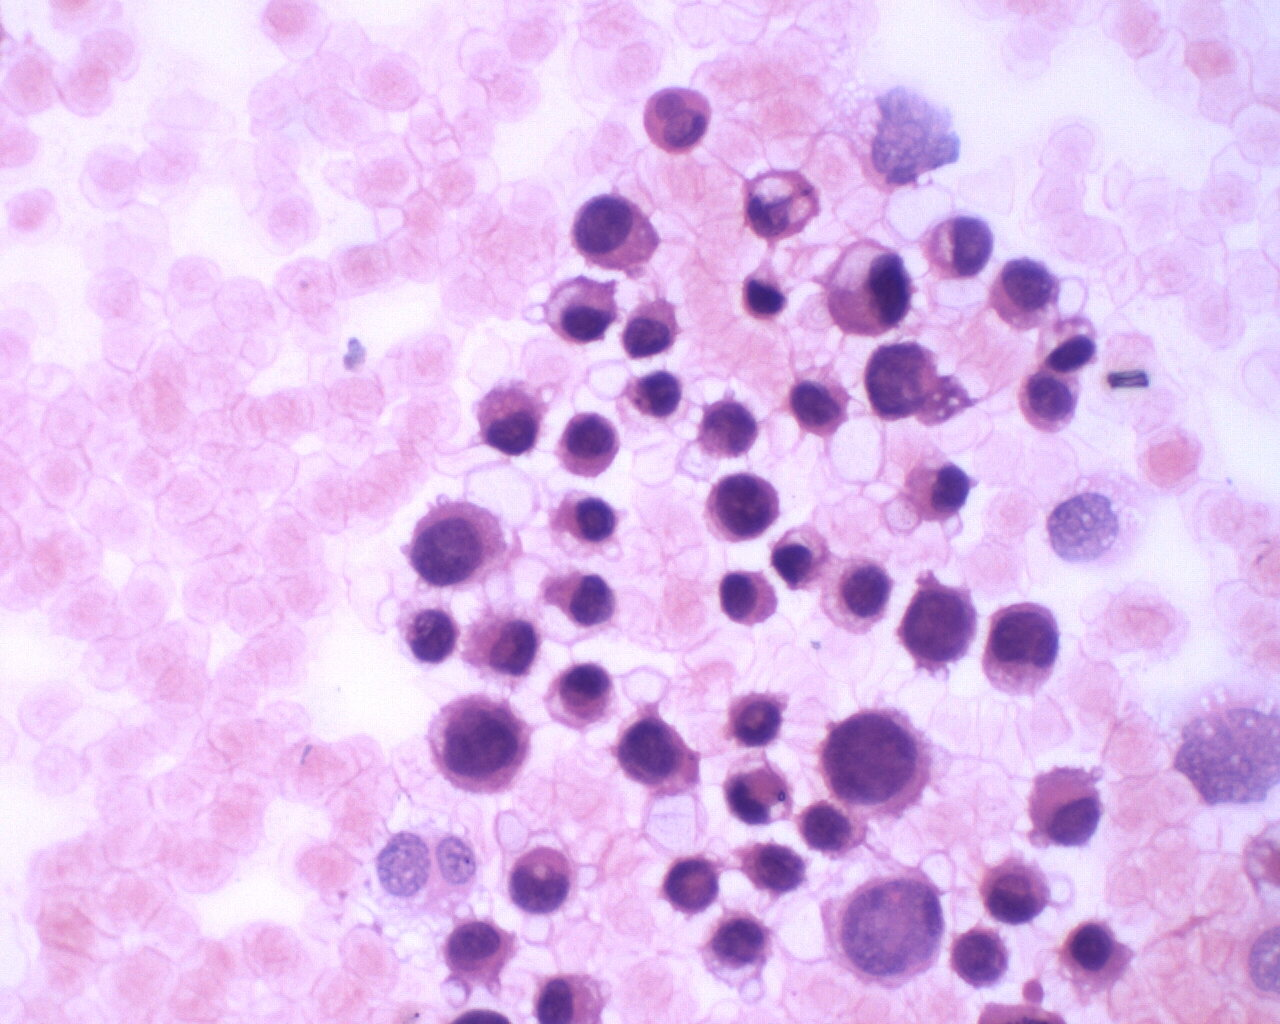ab: (820, 703, 936, 821), (428, 691, 536, 799), (404, 496, 506, 592), (979, 596, 1065, 703), (616, 709, 709, 805), (897, 571, 984, 669), (573, 189, 659, 276), (859, 339, 942, 421), (977, 848, 1053, 930), (441, 917, 517, 992), (701, 468, 778, 541), (506, 840, 577, 920), (698, 395, 763, 467), (659, 851, 727, 918), (783, 374, 854, 439), (1016, 367, 1083, 435), (951, 920, 1011, 993), (621, 298, 684, 360), (555, 496, 625, 545)
histo: (821, 239, 918, 338)
meso: (1055, 918, 1137, 994), (553, 408, 626, 483)
